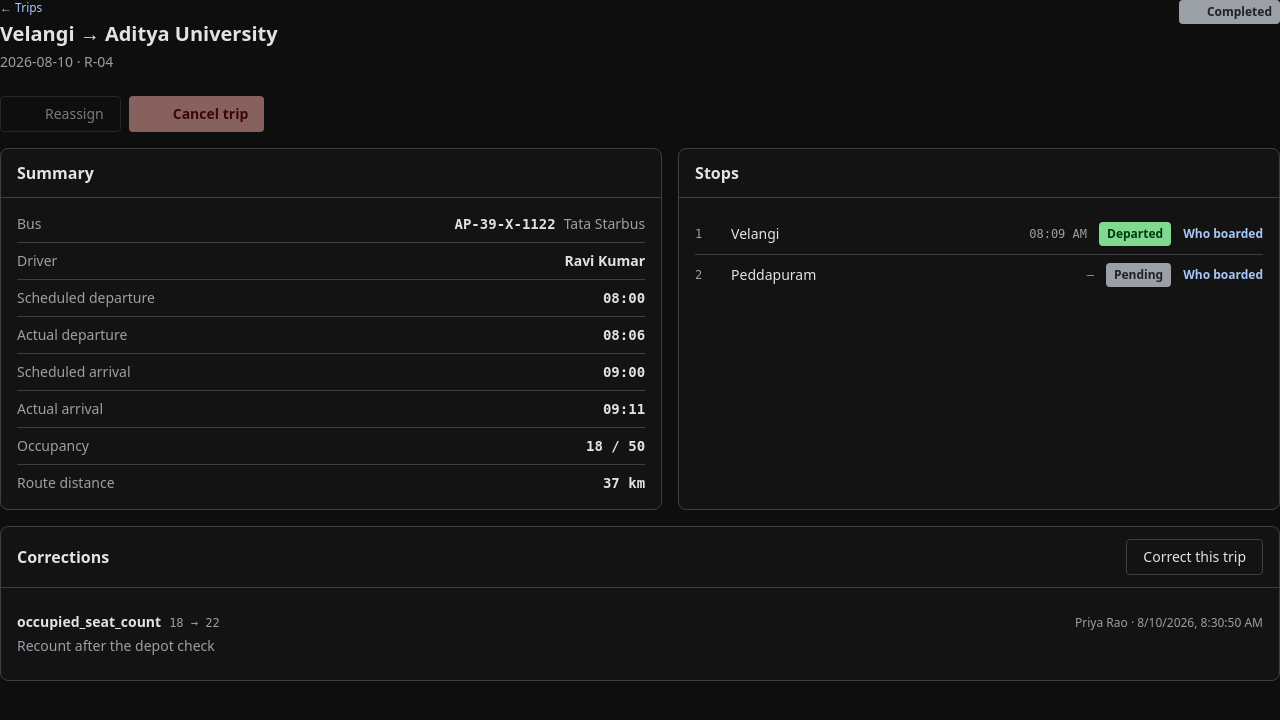
Test: correction permissions › shows a server refusal rather than failing quietly
Click the button "Correct this trip" at [1195, 557], box [1126,539,1263,575]
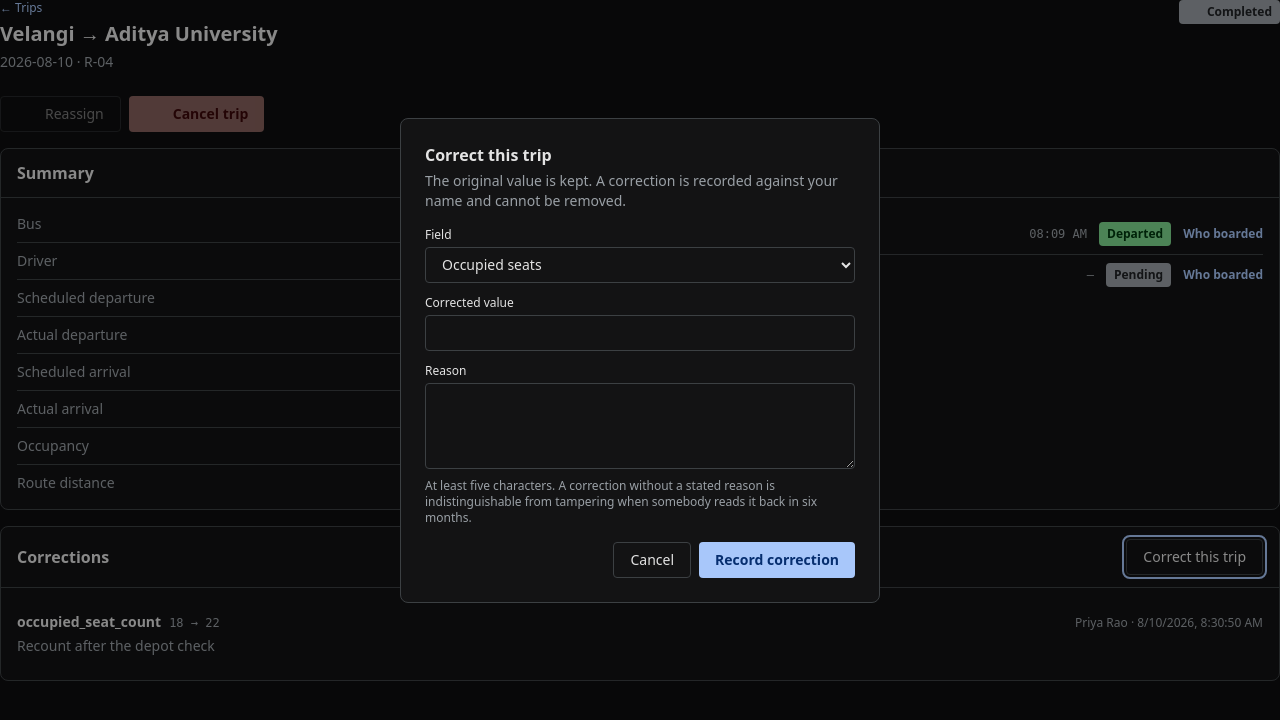
Type "Recount after the depot check" into the text box labelled "Reason" at [640, 426], box [425,382,855,468]
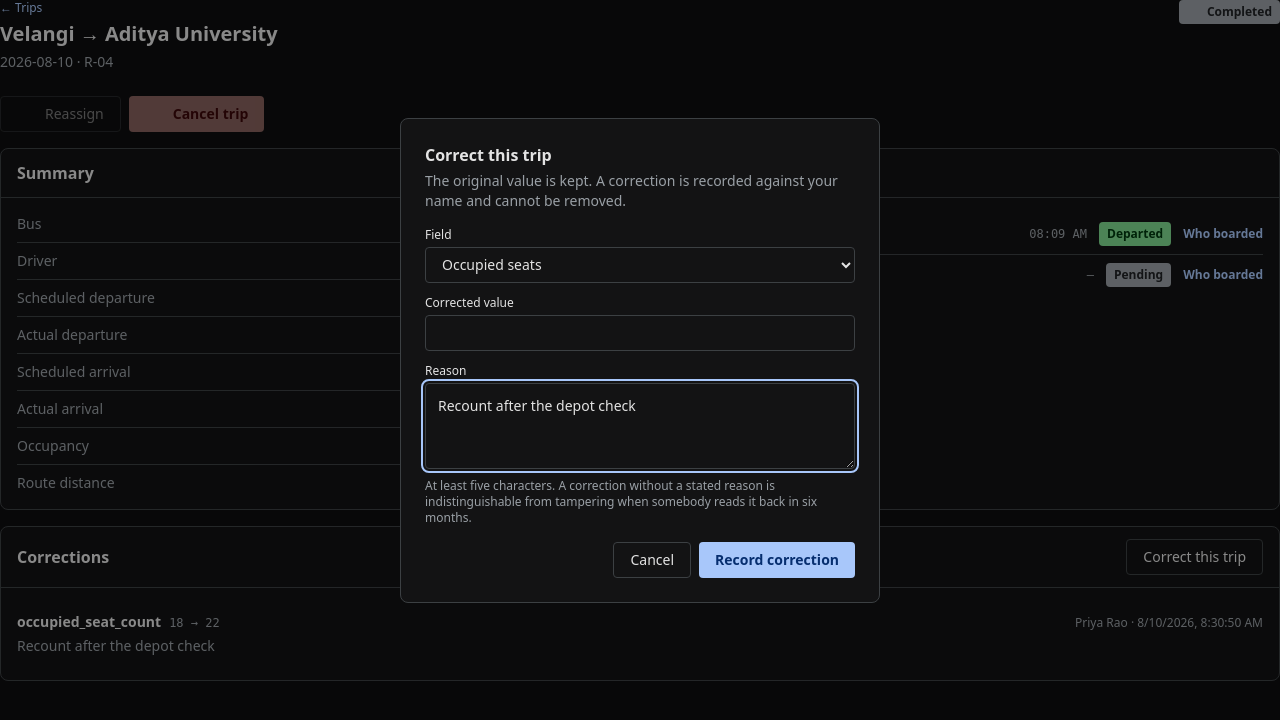
Click the button "Record correction" at [777, 560], box [699,542,855,578]
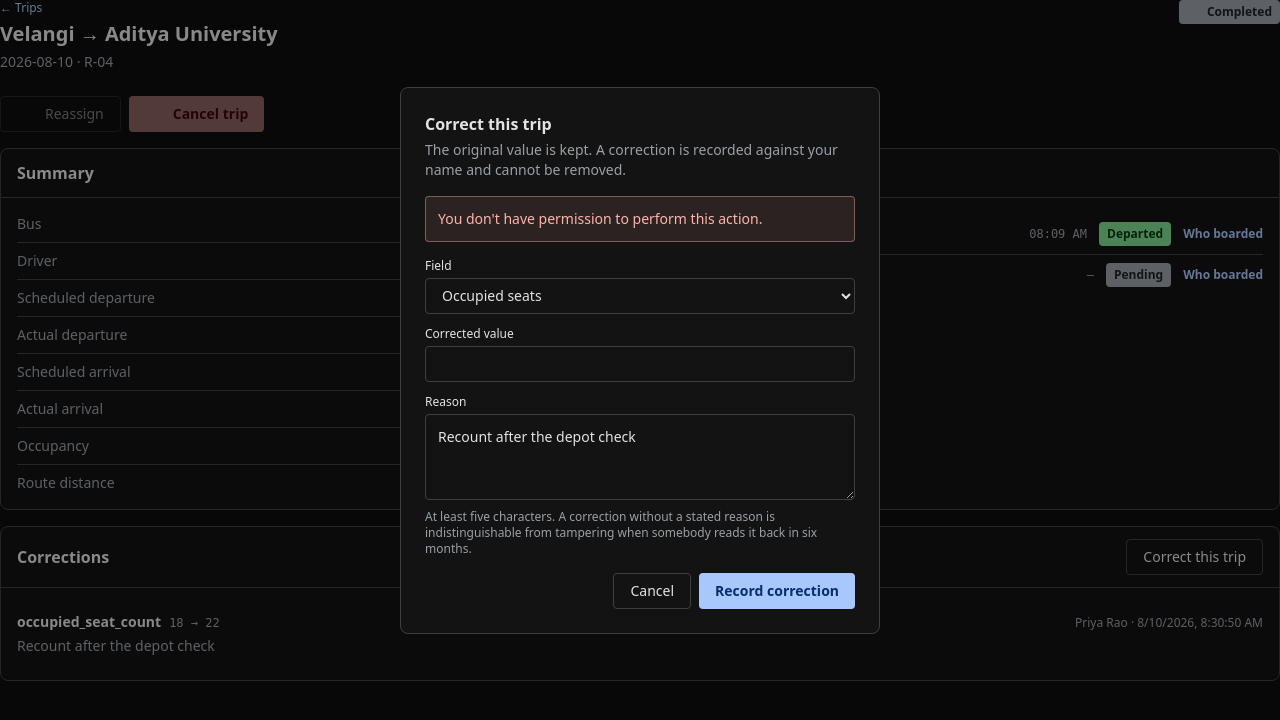
Expected: the message does not show "tier OPERATIONS", [425,196,855,242]
Now the message reads "You don't have permission to perform this action.", box [438,208,762,228]
